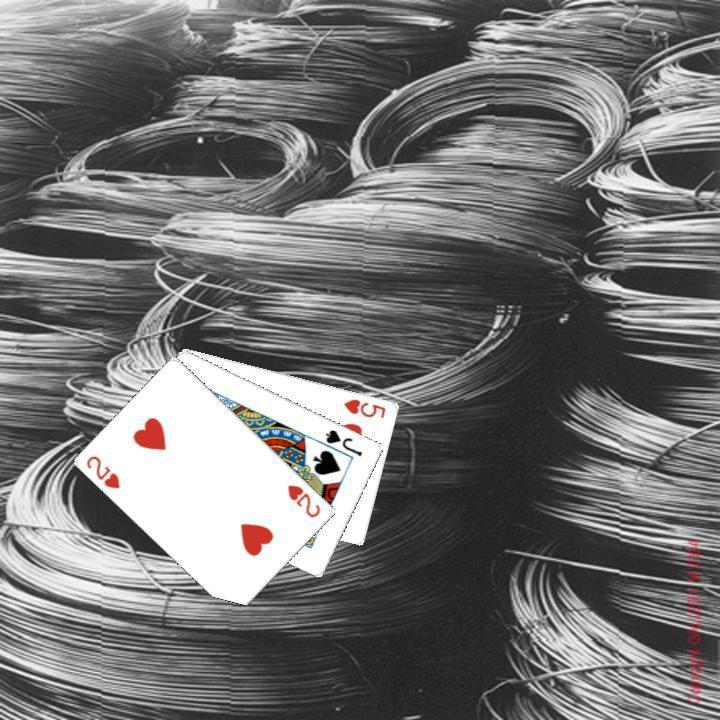2: (82, 451, 123, 491), (283, 480, 323, 520)
5: (340, 394, 388, 420)
J: (321, 425, 364, 458)
